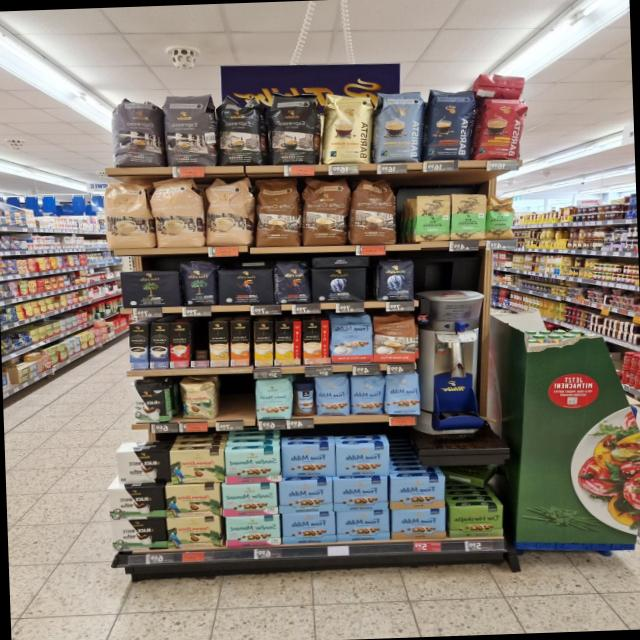AB Bohne: (374, 258, 416, 300)
AB Gemahlen: (310, 266, 368, 302)
Athiopien Bohne: (486, 194, 518, 240)
Athiopien Gemahlen: (411, 194, 452, 241), (450, 193, 488, 241)
BM Bohne: (178, 259, 217, 305)
BM Gemahlen: (119, 270, 181, 308)
BW Bohne: (130, 380, 168, 422)
BW Gemahlen: (106, 484, 165, 520), (116, 448, 170, 486), (110, 518, 166, 551)
Barista CB: (321, 94, 374, 164)
Barista CC: (374, 90, 424, 162)
Barista Kolumbien: (474, 97, 528, 160)
CC Mild: (202, 176, 254, 246), (150, 180, 202, 248), (101, 180, 150, 248)
CC Vollmundig: (372, 314, 416, 363)
CC Vollmundig 36 Pads: (300, 176, 351, 246), (254, 177, 302, 247), (348, 178, 396, 245)
Colombia BB Bohne: (178, 380, 216, 420)
Colombia BB Gemahlen: (168, 448, 224, 484), (166, 482, 220, 518), (166, 515, 220, 548)
Empty Shelf: (215, 378, 253, 418), (189, 321, 207, 361)
Espresso Aromatisch: (162, 92, 216, 166), (109, 100, 162, 168)
Espresso Kraftig: (268, 92, 320, 165), (216, 92, 264, 164)
FM 36 Pads: (328, 313, 372, 363)
FM Bohne: (384, 372, 421, 416), (349, 374, 384, 415), (314, 374, 348, 416)
FM Gemahlen: (276, 477, 332, 513), (280, 442, 336, 478), (335, 442, 391, 477), (331, 476, 388, 510), (389, 474, 445, 508), (390, 506, 445, 540), (281, 510, 335, 544), (335, 509, 390, 541)
FM Instant: (292, 379, 316, 416)
Herzhatfe Mundig: (448, 504, 504, 538)
LG Bohne: (274, 259, 310, 305)
LG Gemahlen: (217, 268, 275, 305)
SM Bohne: (254, 376, 292, 419)
SM Gemahlen: (224, 448, 280, 484), (221, 482, 278, 516), (225, 514, 281, 548)
Simo CCMild: (274, 320, 302, 365)
Simo CCMild bigpack: (253, 320, 274, 366)
Simo CCVollmundig: (302, 319, 330, 364)
Simo CCVollmundig bigpack: (228, 319, 250, 366)
Simo Decaff: (208, 321, 229, 366)
Simo Es Brazil: (168, 322, 190, 368)
Simo Es Caramel: (423, 89, 479, 161)
Simo Es Kraft: (148, 322, 170, 368)
Simo Es Vanilla: (127, 323, 150, 370)
